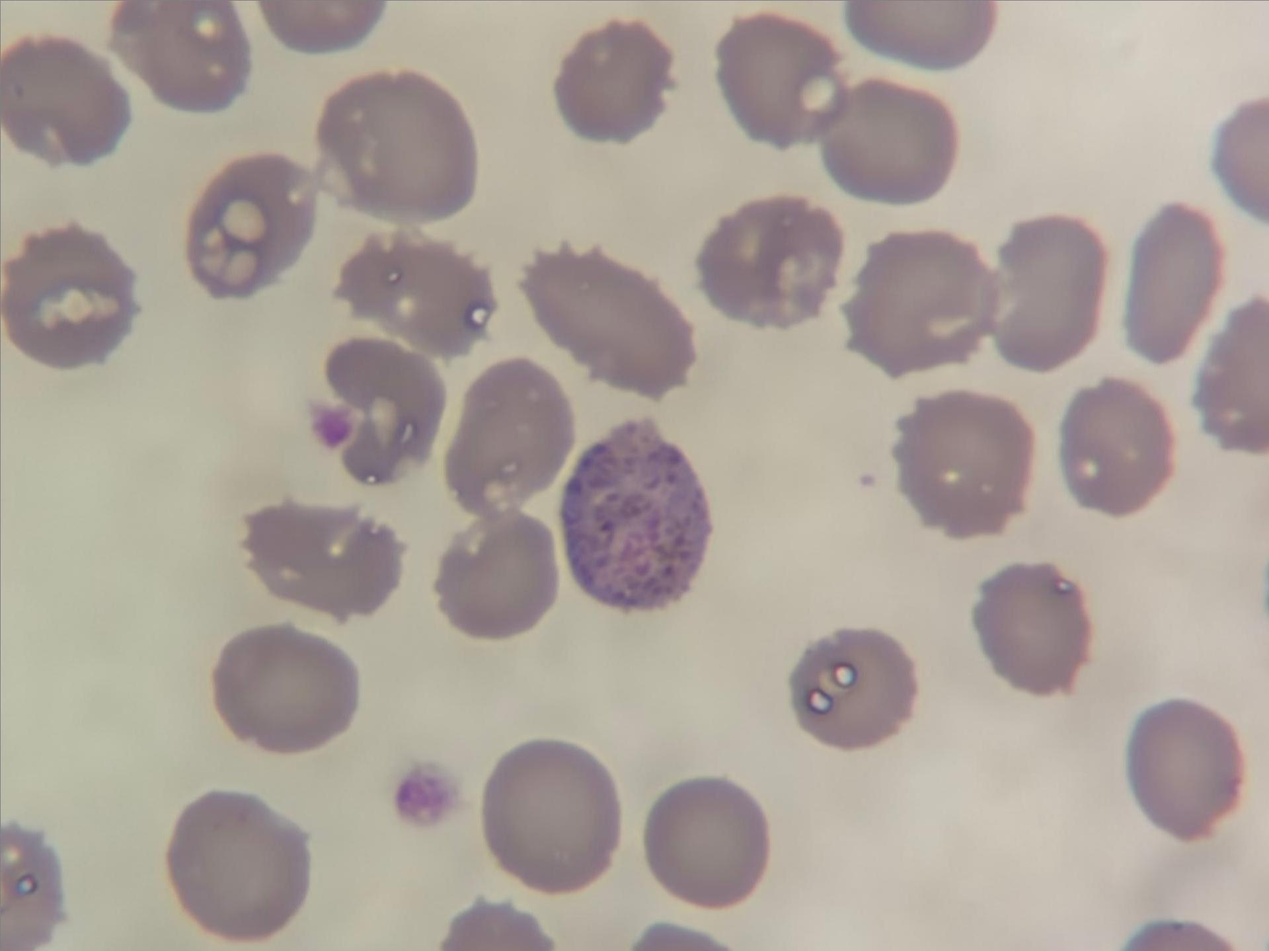Infected: (555, 337, 710, 539)
Uninfected: (568, 553, 750, 710), (790, 729, 950, 879), (268, 574, 425, 719), (957, 7, 1102, 159), (649, 57, 784, 212), (774, 590, 933, 721), (863, 326, 1028, 451), (234, 412, 375, 558), (1127, 580, 1266, 724), (950, 652, 1082, 798), (907, 198, 1056, 327), (694, 443, 823, 591), (822, 463, 949, 611), (424, 623, 568, 753), (162, 579, 278, 734), (418, 805, 553, 937), (26, 109, 149, 250), (310, 745, 445, 872), (1139, 784, 1267, 915), (497, 45, 624, 173), (350, 199, 479, 324), (44, 586, 145, 745), (95, 434, 212, 571), (182, 253, 299, 386), (708, 311, 831, 436), (1017, 839, 1155, 950), (592, 810, 713, 933)
